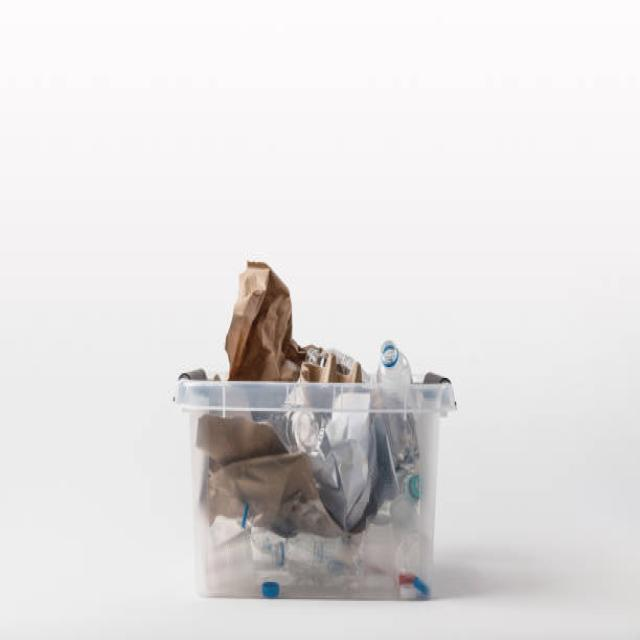paper: (229, 265, 353, 386)
plastic: (375, 337, 409, 389)
